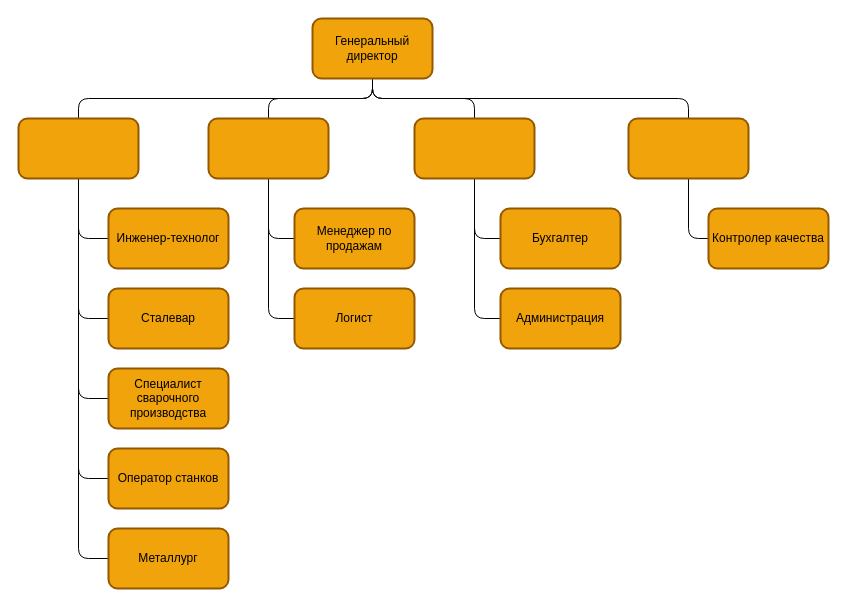
The diagram is 846 pixels wide and 606 high, and some of its shapes have lost their labels. Here are the shapes that lost their labels. From the top down, the box of each, then its label:
(17, 117, 139, 179): Производство
(207, 117, 329, 179): Продажи
(413, 117, 535, 179): Отдел администрации
(627, 117, 749, 179): Отдел контроля качества
